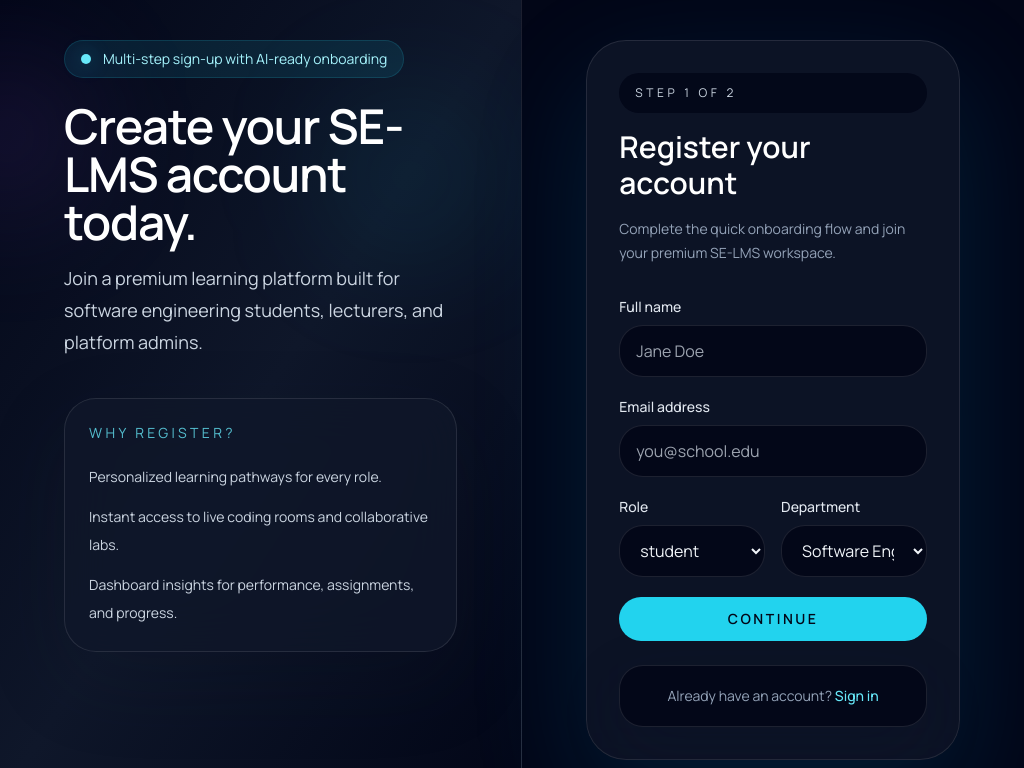
RegisterPage › requires terms acceptance before submitting registration
This screenshot has width=1024, height=768.
Submit the form "Full name Email address Role Department Continue", box [619, 297, 927, 641]
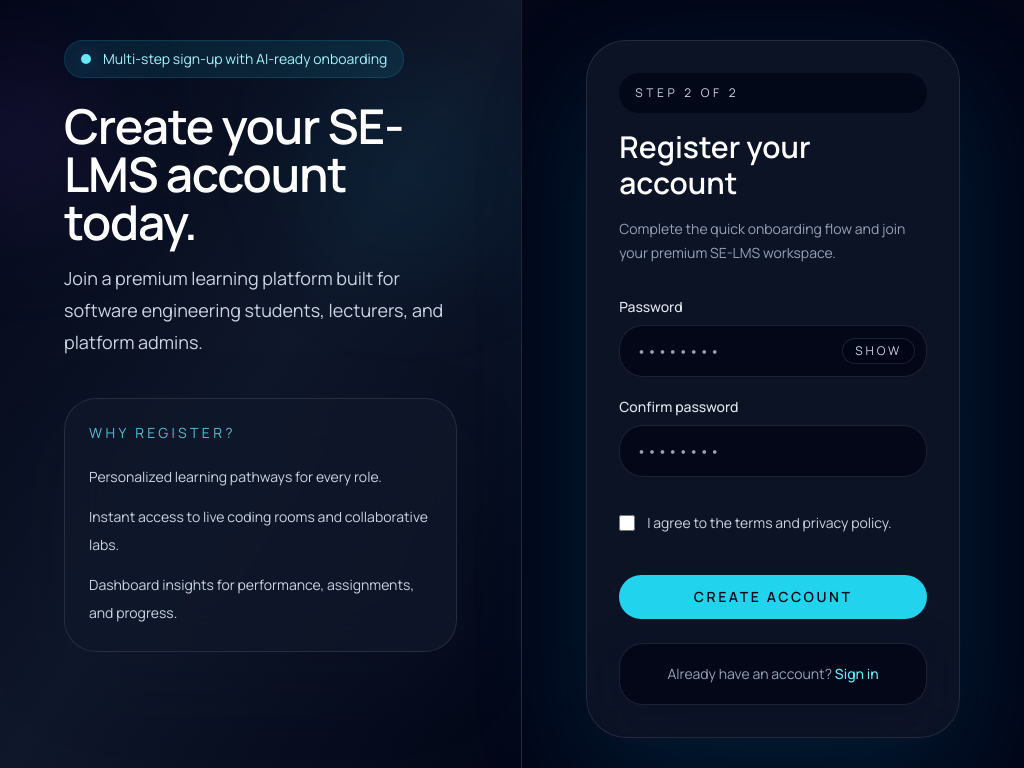
Expected: the button "Create account" is shown, [619, 575, 927, 619]
In the password field named "password": (773, 351) [619, 325, 927, 377], type "password123"
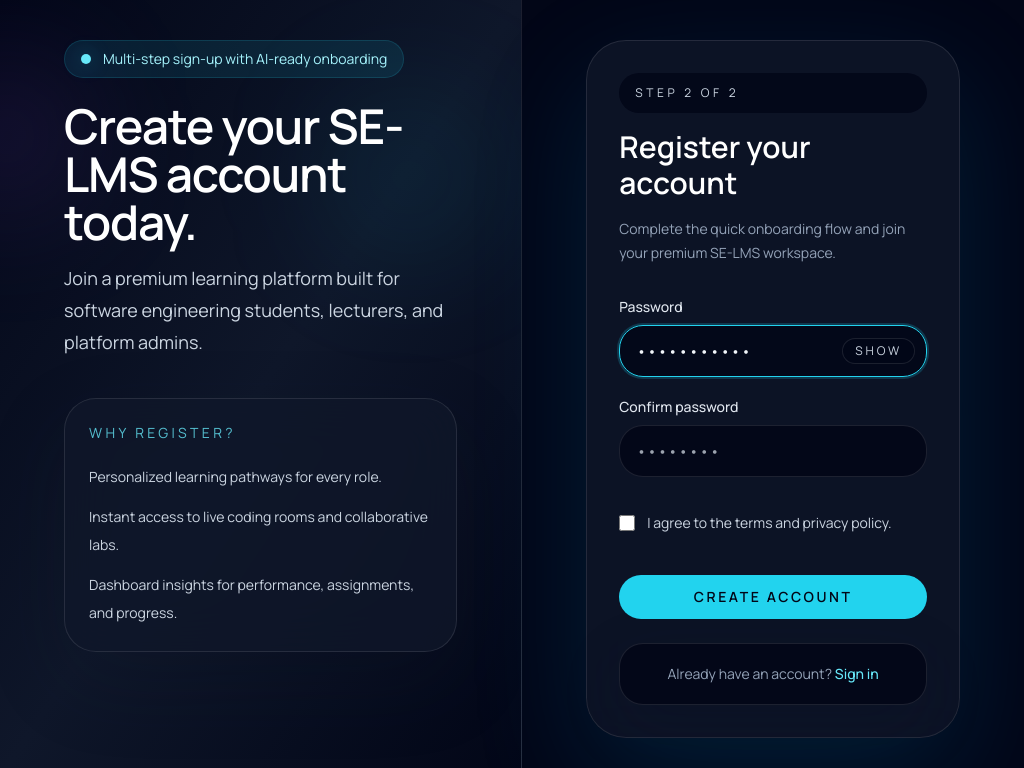
In the password field named "confirmPassword": (773, 451) [619, 425, 927, 477], type "password123"
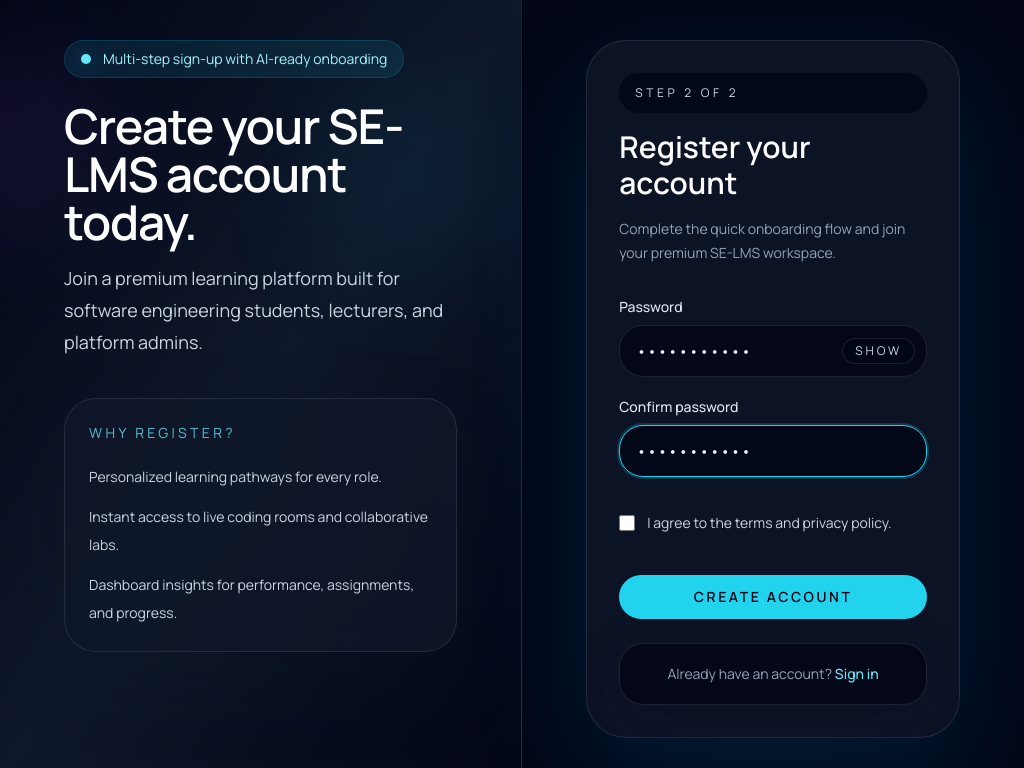
Click the button "Create account": (773, 597) [619, 575, 927, 619]
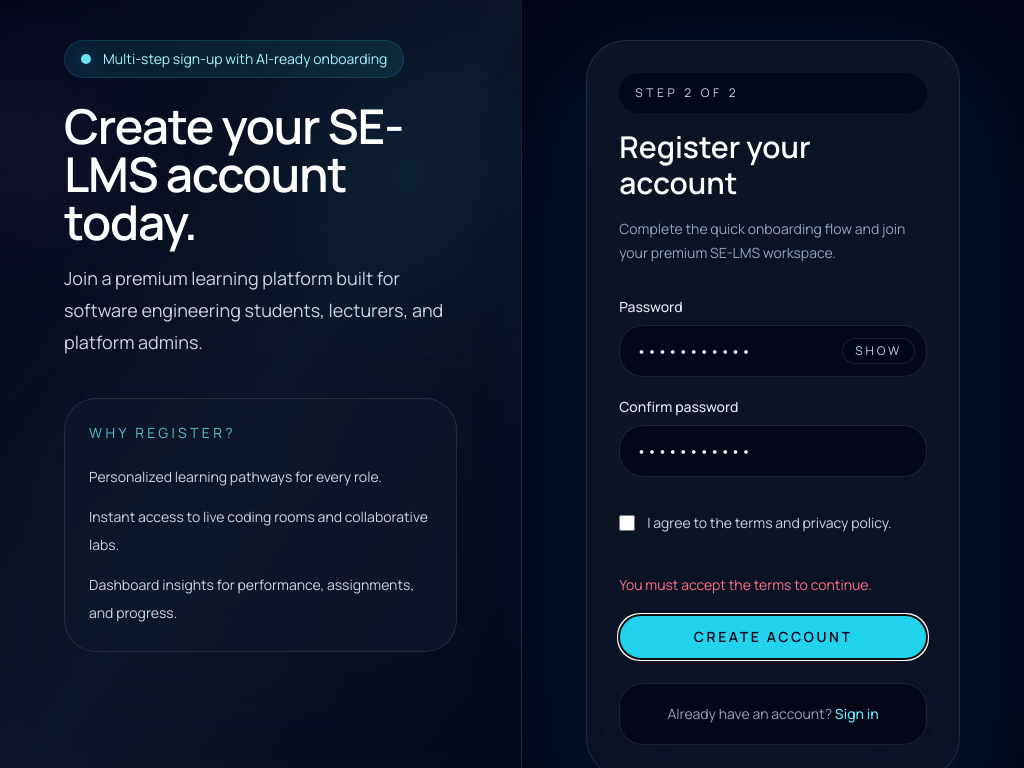
Expected: the text "You must accept the terms to continue." is shown, [619, 575, 872, 594]
